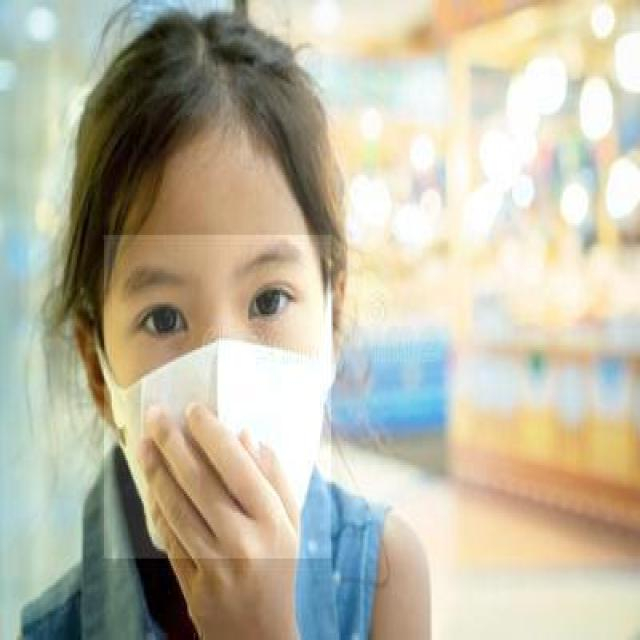face_mask: (104, 235, 333, 561)
hand_noglove: (128, 392, 306, 593)
head_nohelmet: (78, 38, 334, 228)
